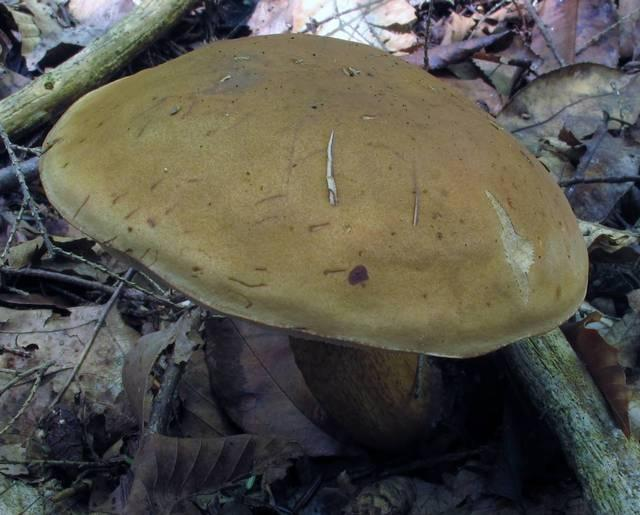Non-edible Mushroom: (36, 29, 592, 453)
